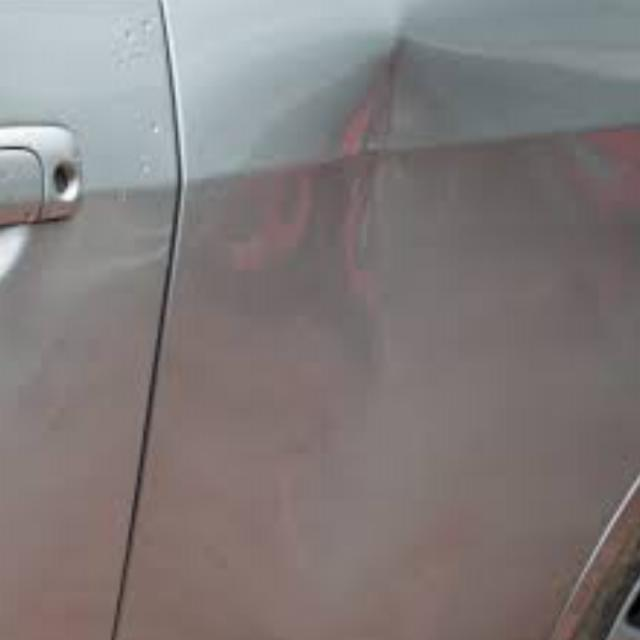dents: (236, 36, 570, 324)
